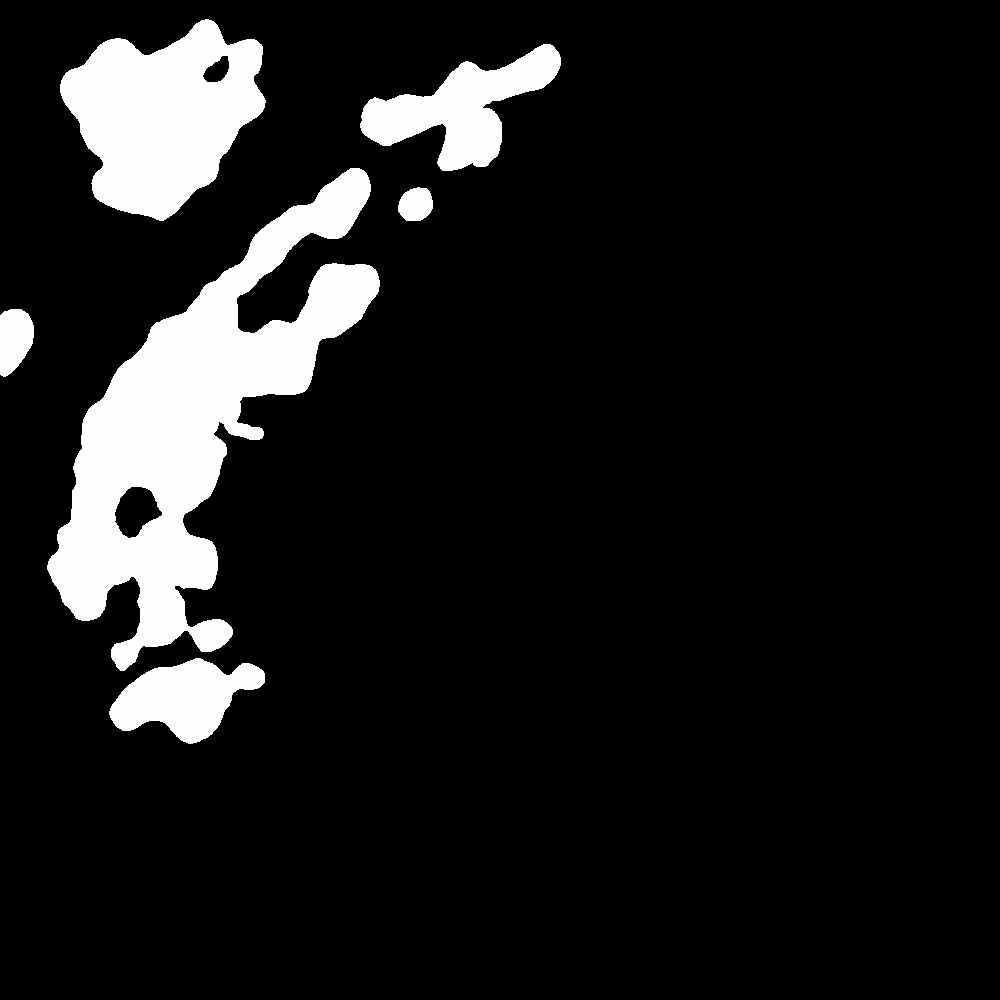illegal: (49, 169, 434, 660), (65, 15, 292, 232), (369, 43, 560, 167), (105, 662, 267, 746), (80, 784, 133, 919), (644, 620, 675, 720), (1, 311, 33, 373)
